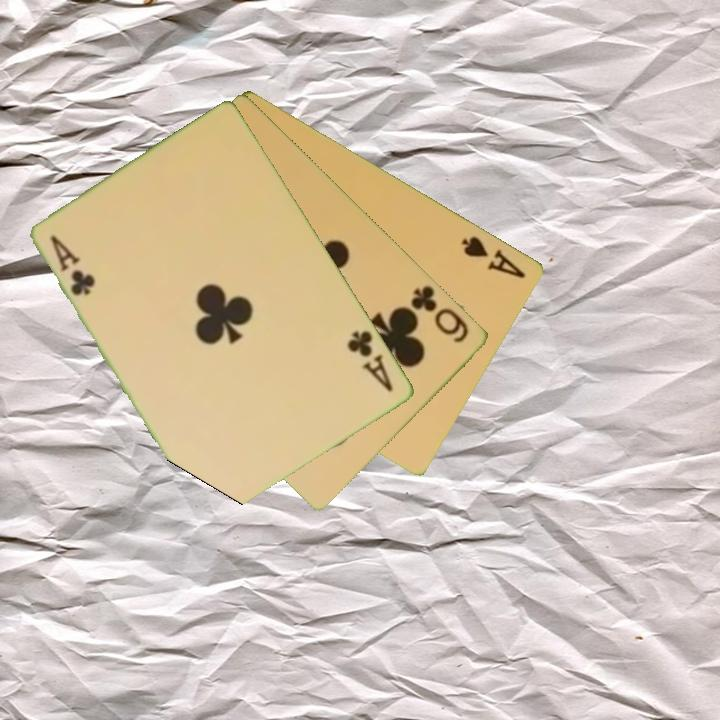6c: (407, 281, 472, 346)
Ac: (344, 327, 397, 395), (47, 232, 99, 299)
As: (458, 232, 529, 281)
